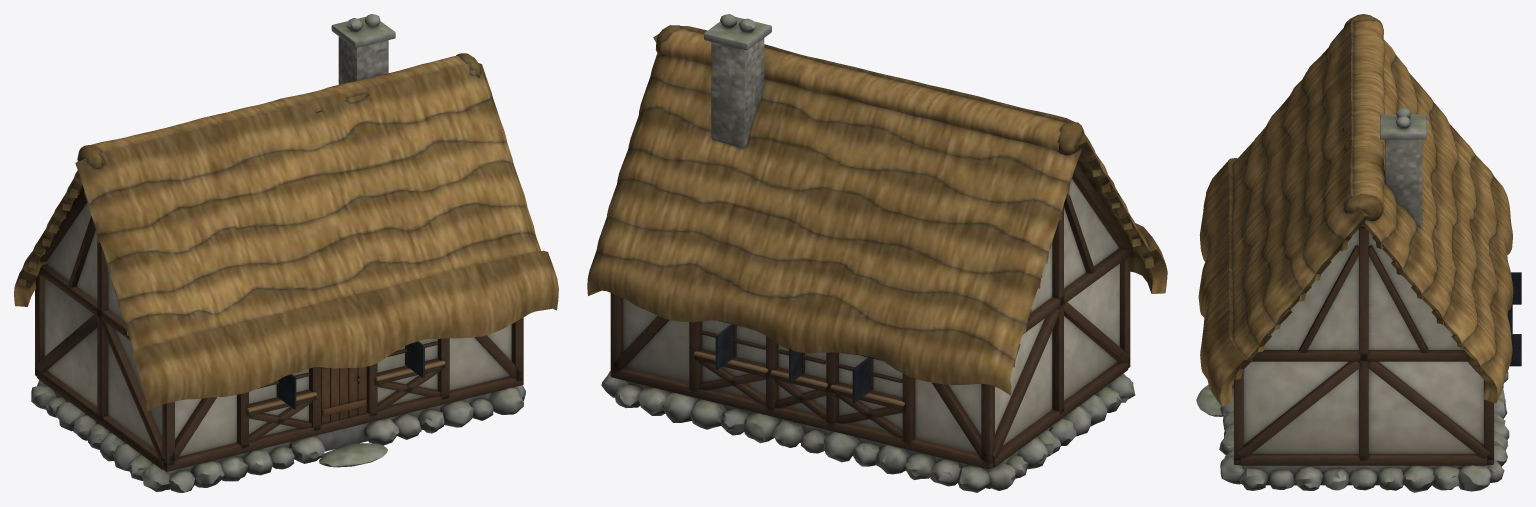
File: cottage.glb
The picture shows the model from 3 angles, left to right: view 1: azimuth 30°, elevation 25°; view 2: azimuth 150°, elevation 25°; view 3: azimuth 270°, elevation 25°; orthographic projection. The views are drawn at different scales.
Visible parts, largest first — view 1: cottage; view 2: cottage; view 3: cottage.
Boxes of the visible parts, x1=… form: cottage: x1=14, y1=14, x2=558, y2=492; cottage: x1=587, y1=14, x2=1167, y2=492; cottage: x1=1196, y1=14, x2=1521, y2=492.
Size of the model in its own units: 9.55 by 7.67 by 6.59.
2 materials, 2 textured.
